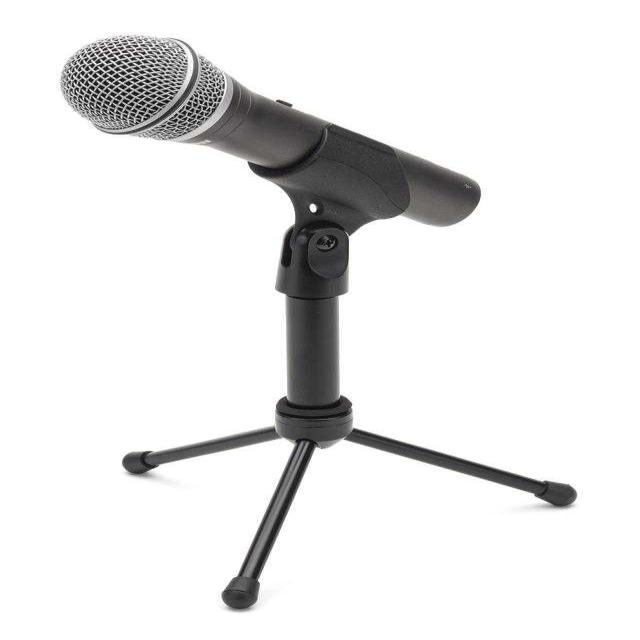microphone: (51, 34, 485, 216)
